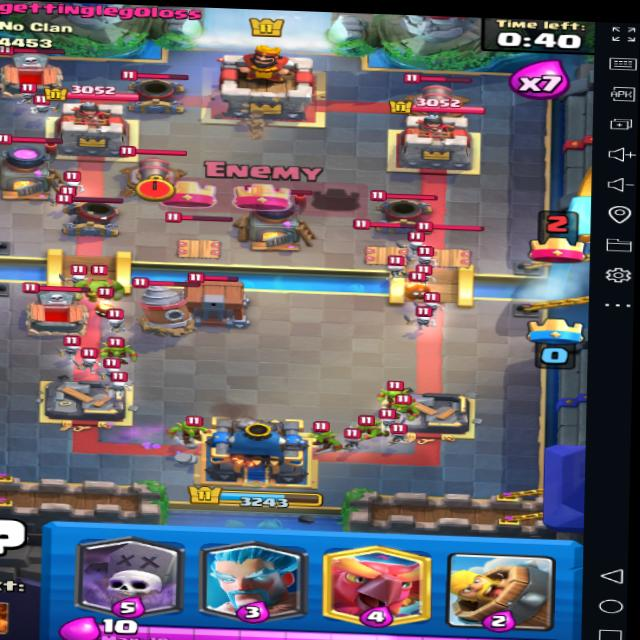brawler: (74, 267, 139, 312)
cannon: (397, 70, 473, 128), (114, 143, 193, 198)
fire-spirit: (397, 277, 440, 303), (82, 294, 122, 320)
furnace: (230, 183, 327, 251), (0, 134, 62, 195)
goblin: (97, 334, 140, 360), (386, 393, 426, 420), (164, 416, 204, 442), (300, 421, 338, 448), (371, 380, 416, 402), (355, 417, 387, 442)
goblin-cage: (171, 264, 253, 328)
goblin-drill: (120, 274, 200, 338)
mortar: (49, 187, 126, 242), (364, 185, 440, 236), (119, 65, 192, 115)
skeleton: (20, 98, 63, 119), (418, 289, 453, 312), (55, 170, 88, 193), (99, 311, 135, 331), (335, 433, 367, 455), (416, 301, 441, 328), (387, 424, 423, 442), (102, 380, 130, 403), (413, 245, 435, 270), (76, 351, 101, 372)
tesla-closed: (163, 210, 239, 261), (356, 222, 428, 274), (414, 219, 474, 269)
tombstone: (14, 281, 99, 334), (0, 45, 78, 101)
trail: (237, 113, 274, 142)
